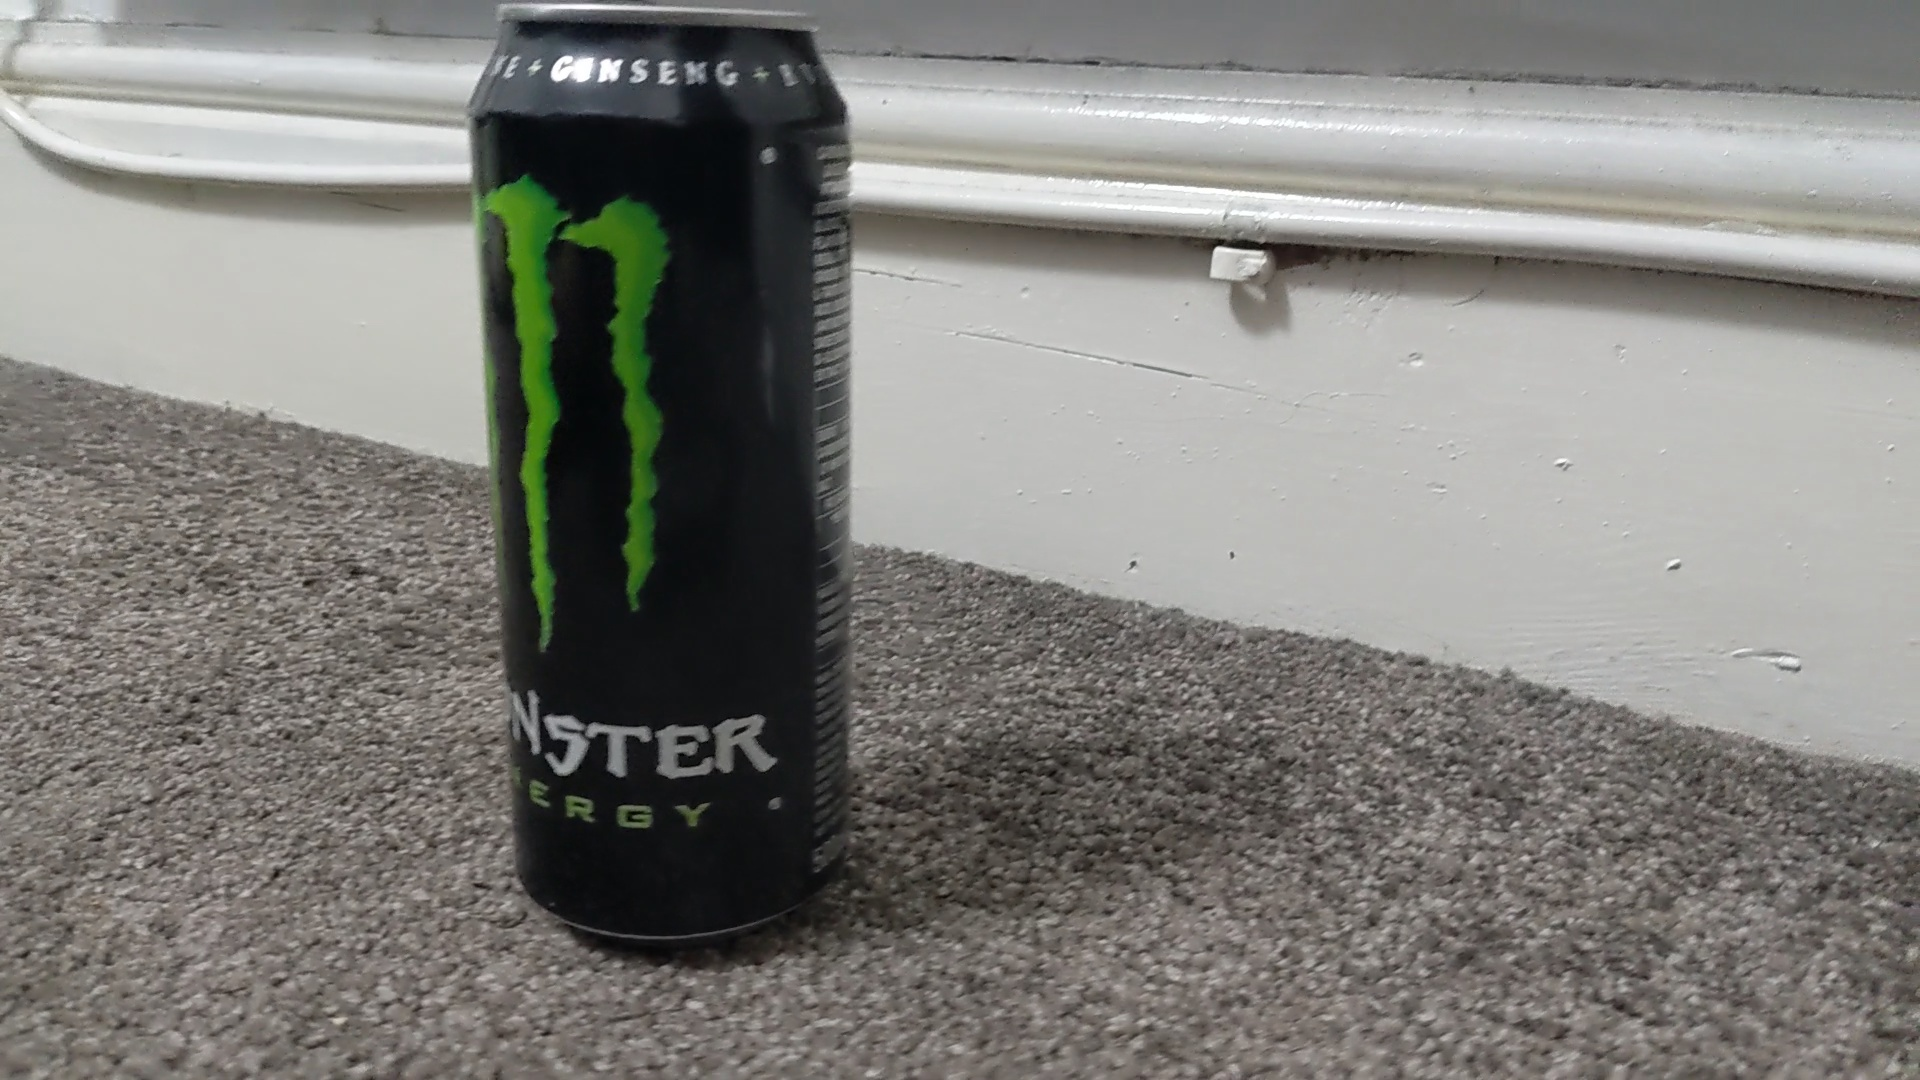monster-original: (465, 1, 853, 945)
